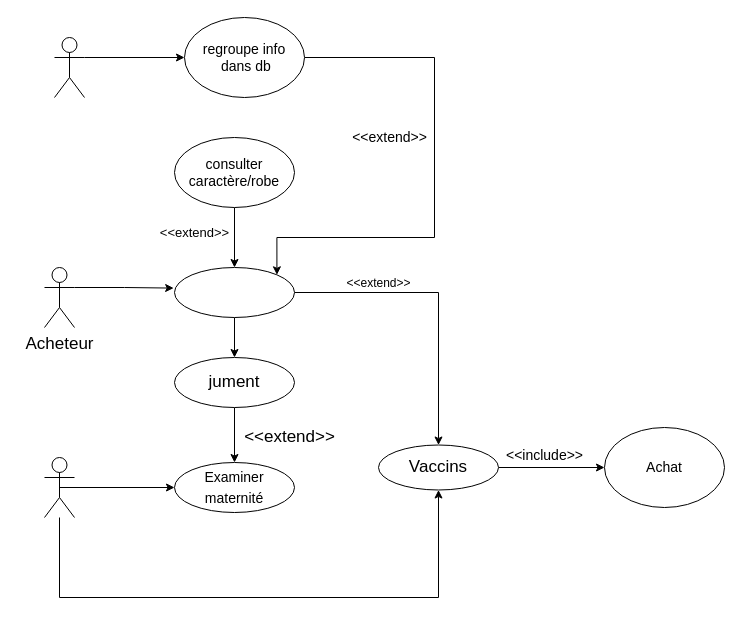
Image size: 742x623. Some labels were removed from this diagram. Here are the shapes that lost their labels. From the top down, the centre of each, then its label:
At (x=69, y=67): "Haras Nationaux".
At (x=234, y=292): "Cheval".
At (x=59, y=487): "Vétérinaire".
